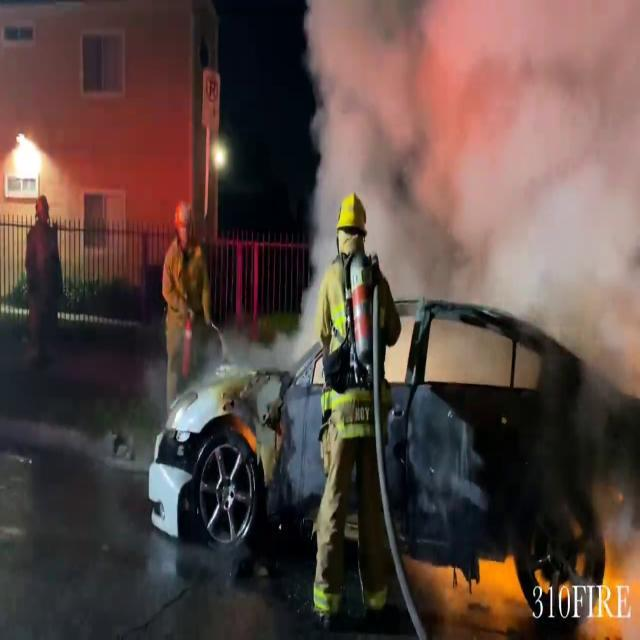Smoke: (292, 0, 640, 324)
